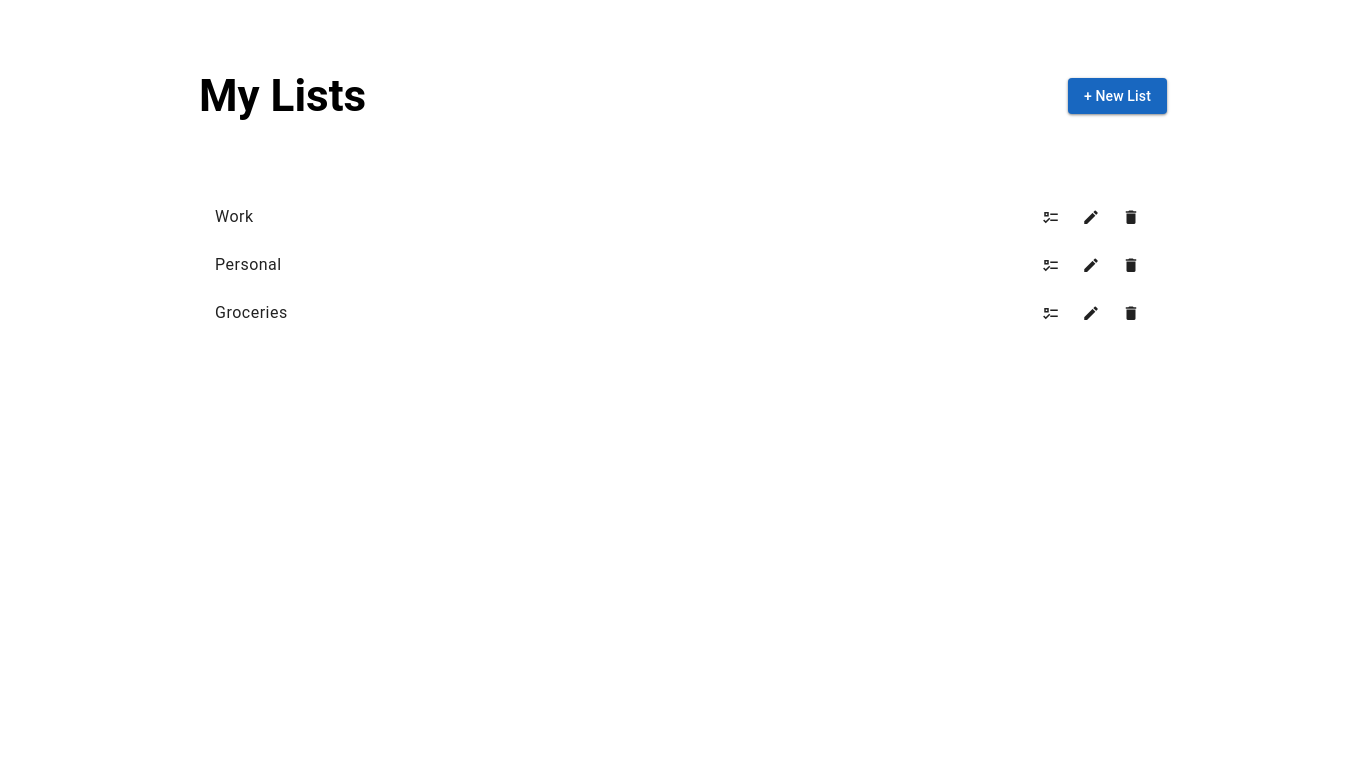
Test case: Feature 3 — Dashboard items dialogs › US-3.2 — View tasks in a list › List items dialog shows empty state
Click the button named "View items for Personal": point(1051, 265) [1031, 245, 1071, 285]
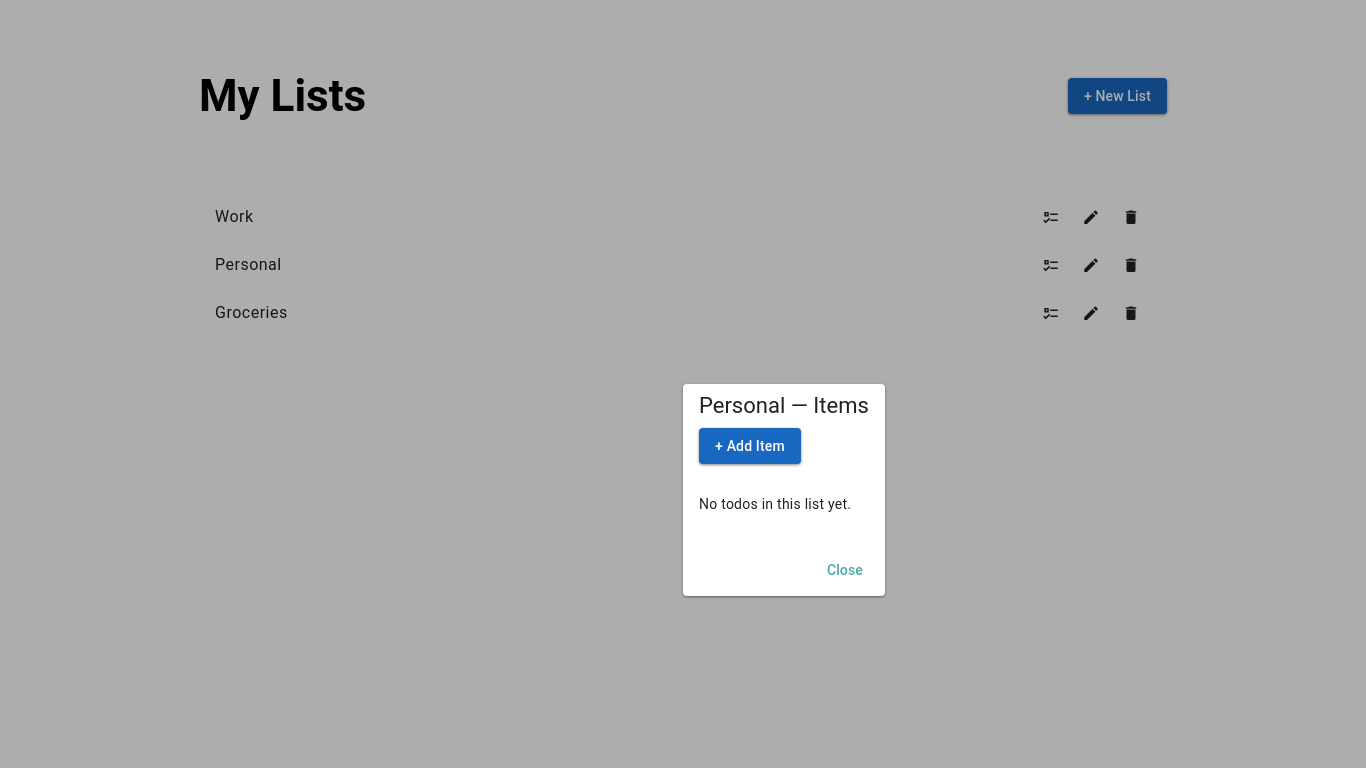
Now the text "No todos in this list yet." is shown, box [699, 494, 869, 514]
